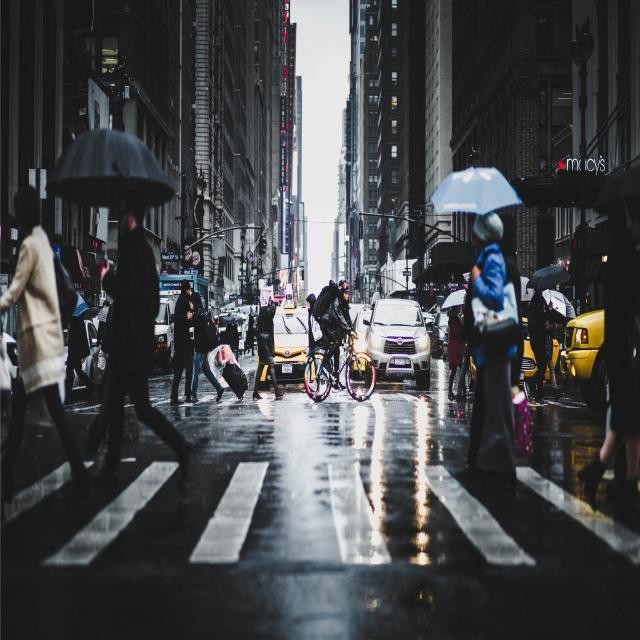Passenger Car: (276, 310, 309, 390)
Pedestrians: (1, 184, 92, 510), (94, 197, 194, 492), (462, 216, 520, 496), (190, 291, 222, 404), (169, 278, 193, 404)
Sport-Utility-Vehicle: (365, 300, 432, 390), (562, 308, 608, 412)
